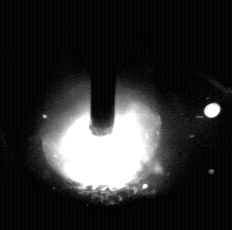arame: (91, 0, 117, 136)
poca: (40, 0, 162, 230)
